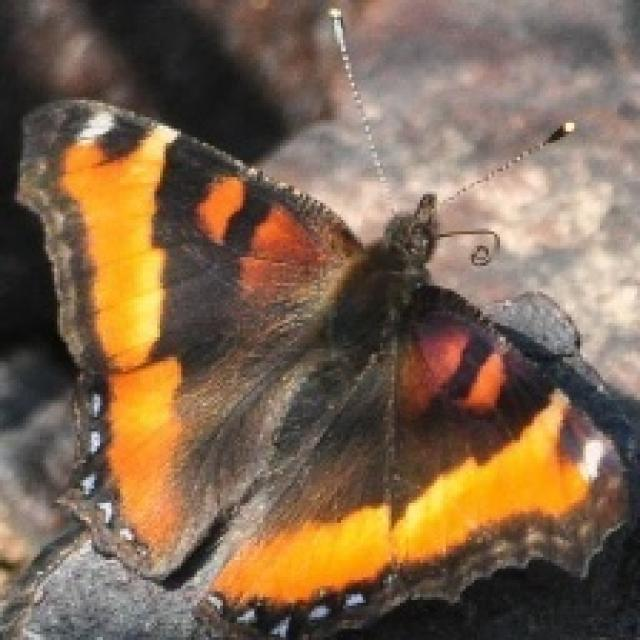butterfly: (11, 3, 623, 628)
